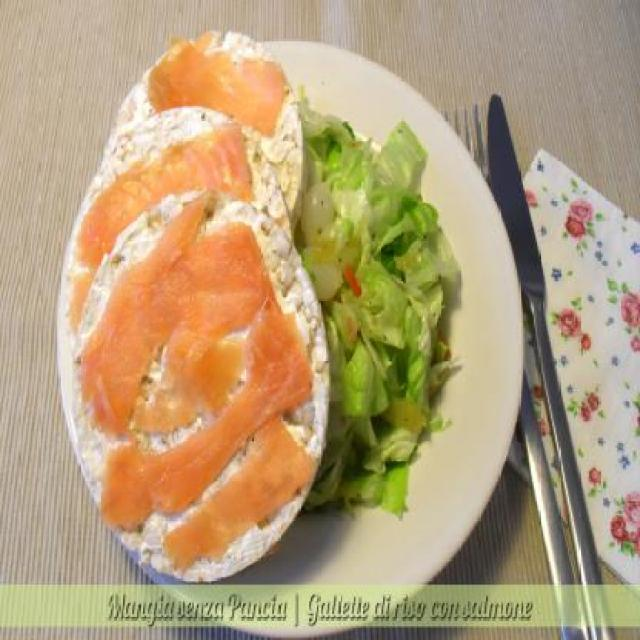Gallette di riso packaged: (70, 197, 328, 591)
Salad: (308, 120, 454, 508)
